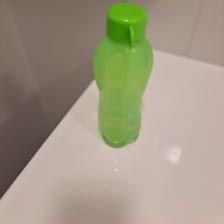bottle: (88, 3, 155, 147)
